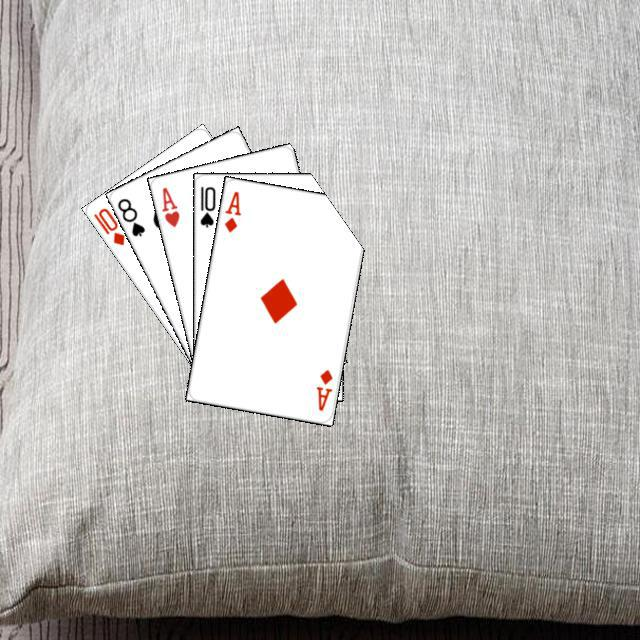10d: (88, 203, 126, 247)
10s: (195, 182, 217, 229)
8s: (112, 193, 147, 238)
Ad: (219, 186, 243, 234), (312, 365, 334, 412)
Ah: (157, 182, 181, 229)
